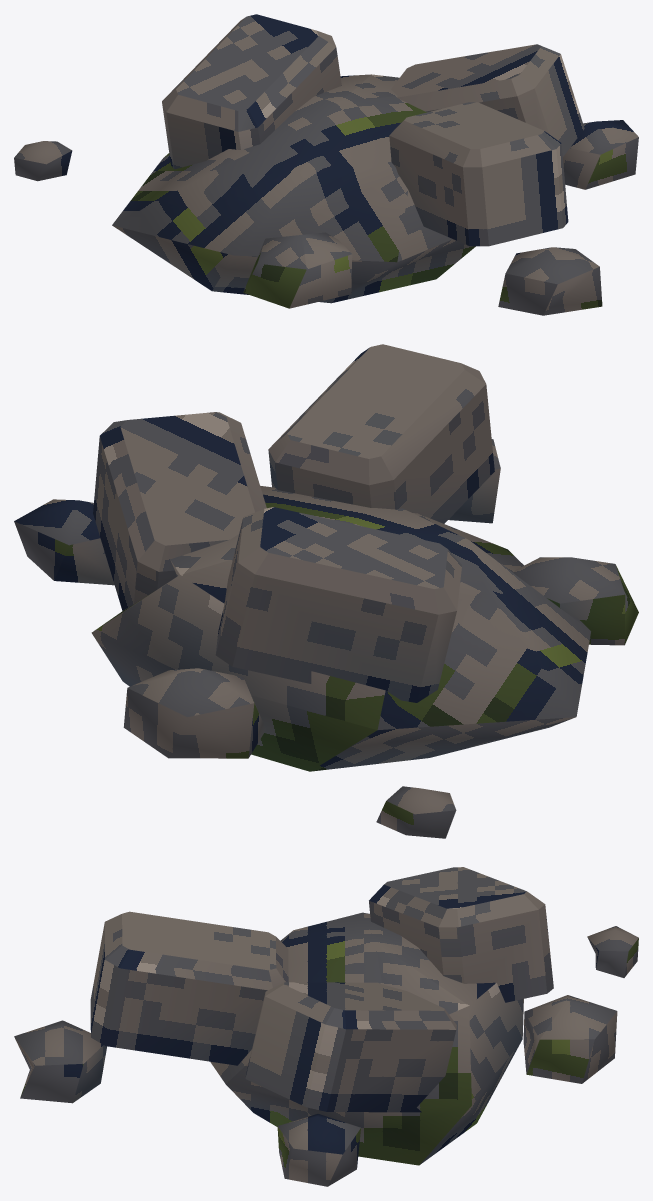
The model's file is dgn.rubble.glb.
3 renders of one model, top to bottom at view 1: azimuth 30°, elevation 25°; view 2: azimuth 150°, elevation 25°; view 3: azimuth 270°, elevation 25°, orthographic. The views are drawn at different scales.
Visible parts, largest first — view 1: kit_stones, kit_blocks; view 2: kit_blocks, kit_stones; view 3: kit_blocks, kit_stones.
Boxes of the visible parts, box(x1,y1,x2,y2) form: kit_stones: box(14, 74, 638, 315); kit_blocks: box(162, 14, 584, 246); kit_blocks: box(93, 344, 494, 702); kit_stones: box(14, 439, 638, 838); kit_blocks: box(90, 867, 553, 1112); kit_stones: box(14, 912, 638, 1186).
Size of the model in its own units: 1.94 by 0.7161 by 2.08.
2 materials, 2 textured.
